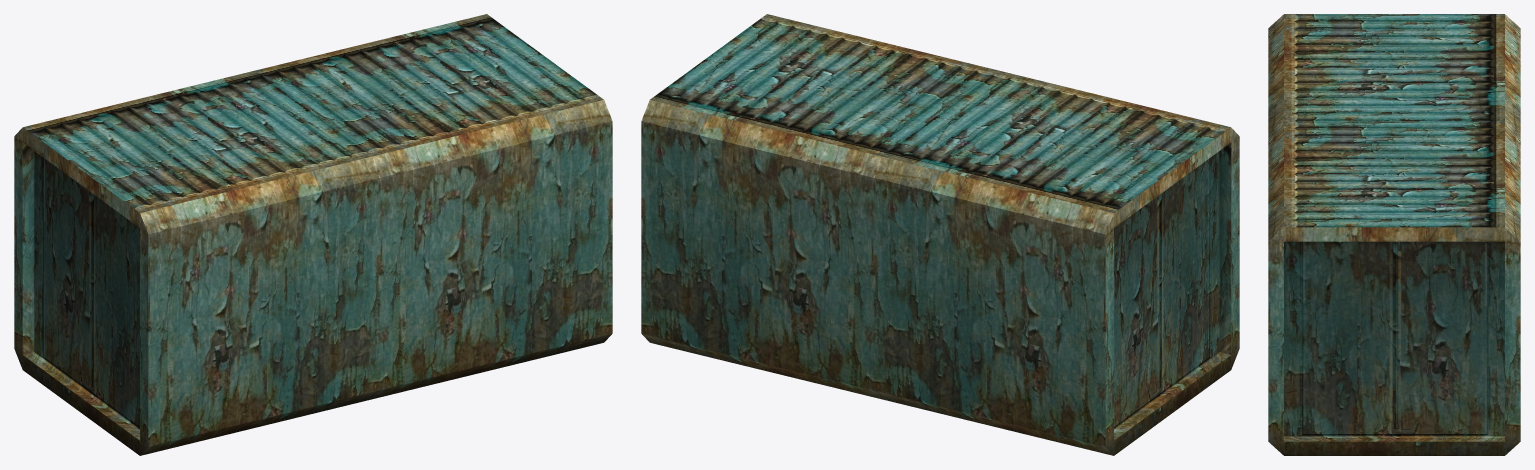
File: M11_Crate_Big_Blue02.glb
The picture shows the model from 3 angles, left to right: view 1: azimuth 30°, elevation 25°; view 2: azimuth 150°, elevation 25°; view 3: azimuth 270°, elevation 25°; orthographic projection. The views are drawn at different scales.
Parts seen in each view (by area): view 1: M11_CRATE_BIG_BLUE02; view 2: M11_CRATE_BIG_BLUE02; view 3: M11_CRATE_BIG_BLUE02.
Boxes of the visible parts, left/top/right/bottom form: M11_CRATE_BIG_BLUE02: left=14, top=14, right=612, bottom=455; M11_CRATE_BIG_BLUE02: left=641, top=14, right=1239, bottom=455; M11_CRATE_BIG_BLUE02: left=1268, top=14, right=1520, bottom=455.
Size of the model in its own units: 8 by 4 by 4.
3 materials, 3 textured.
